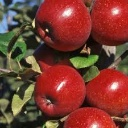apple: (64, 107, 117, 128)
